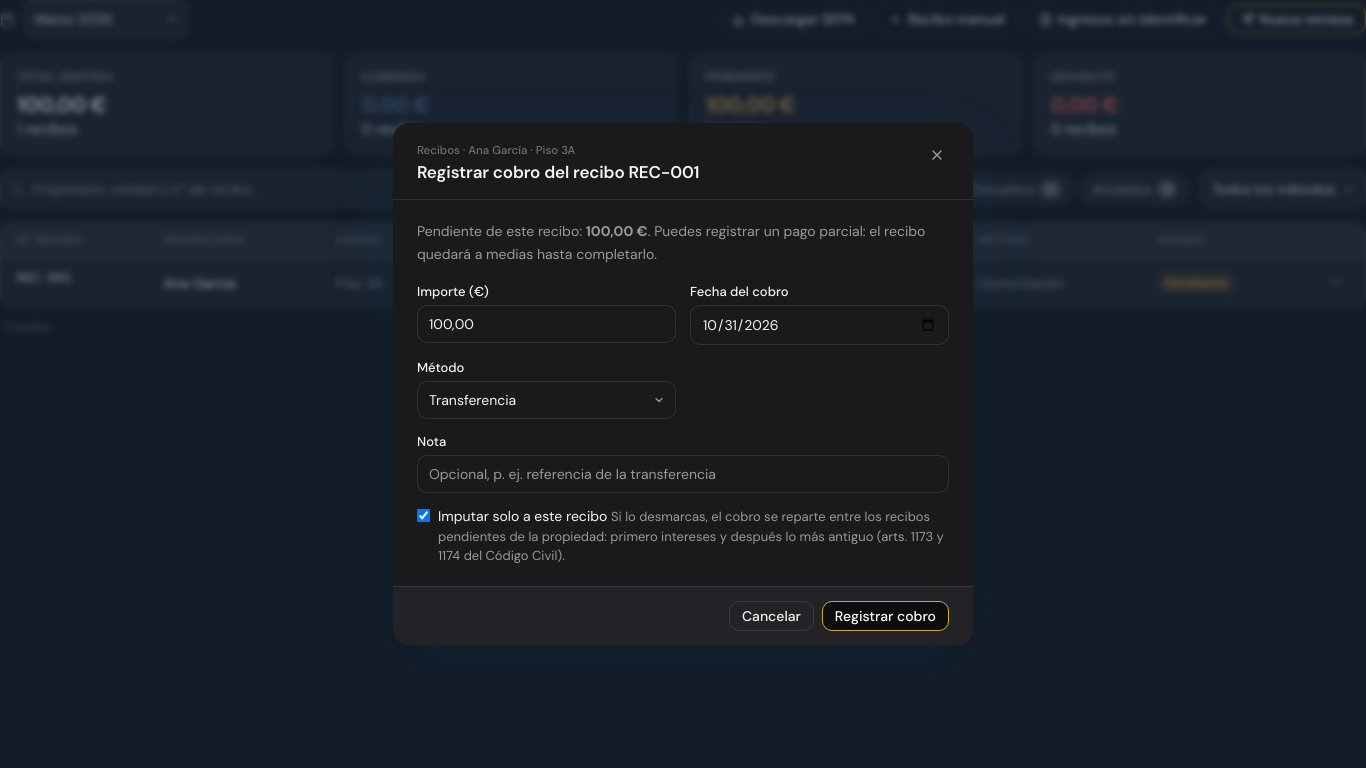
Test: RecibosTabComponent › cobros contabilizados › registrar un cobro parcial manda el importe y el recibo, y recarga la lista
Step 1. Replace the text in the field with id "cobro-amount" with "40,00" → point(546, 324), box [417, 305, 676, 343]
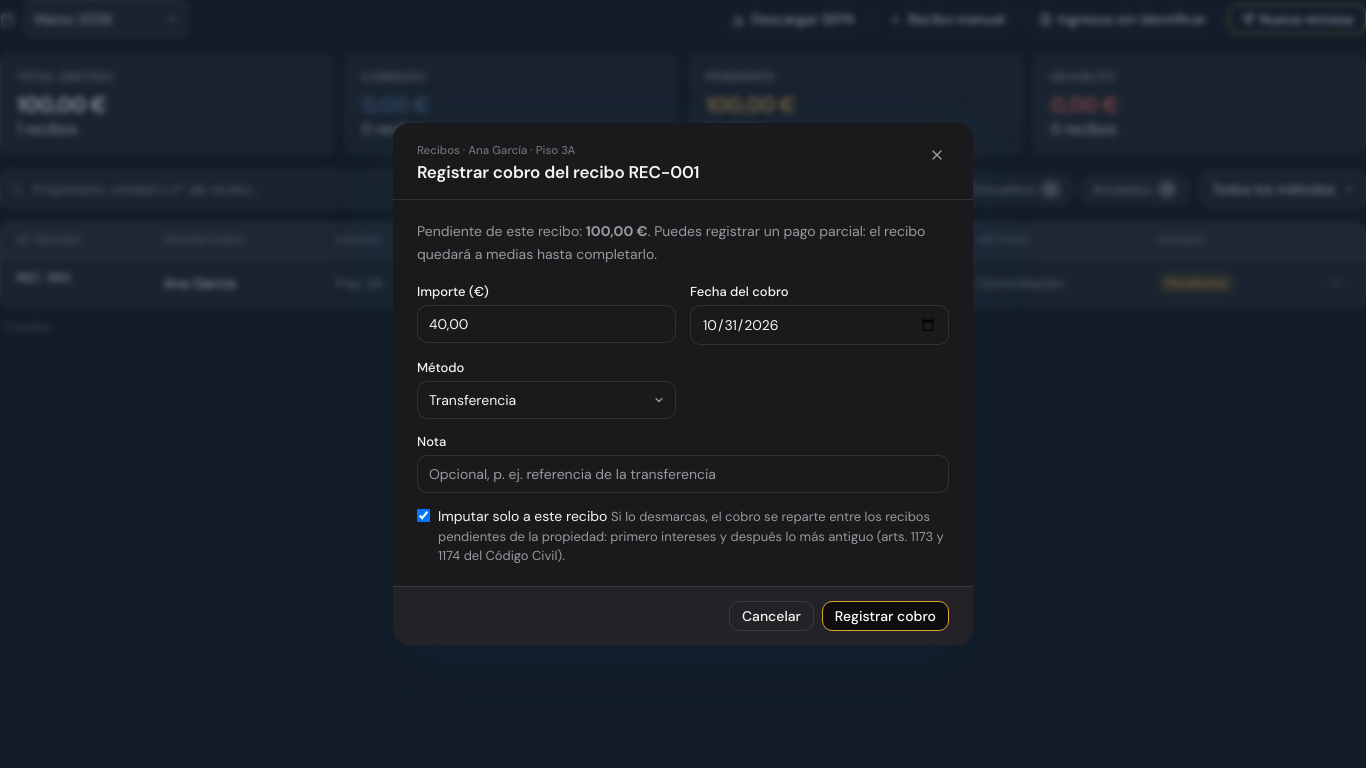
Step 2. Click the button "Registrar cobro" → point(885, 616), box [822, 601, 949, 631]
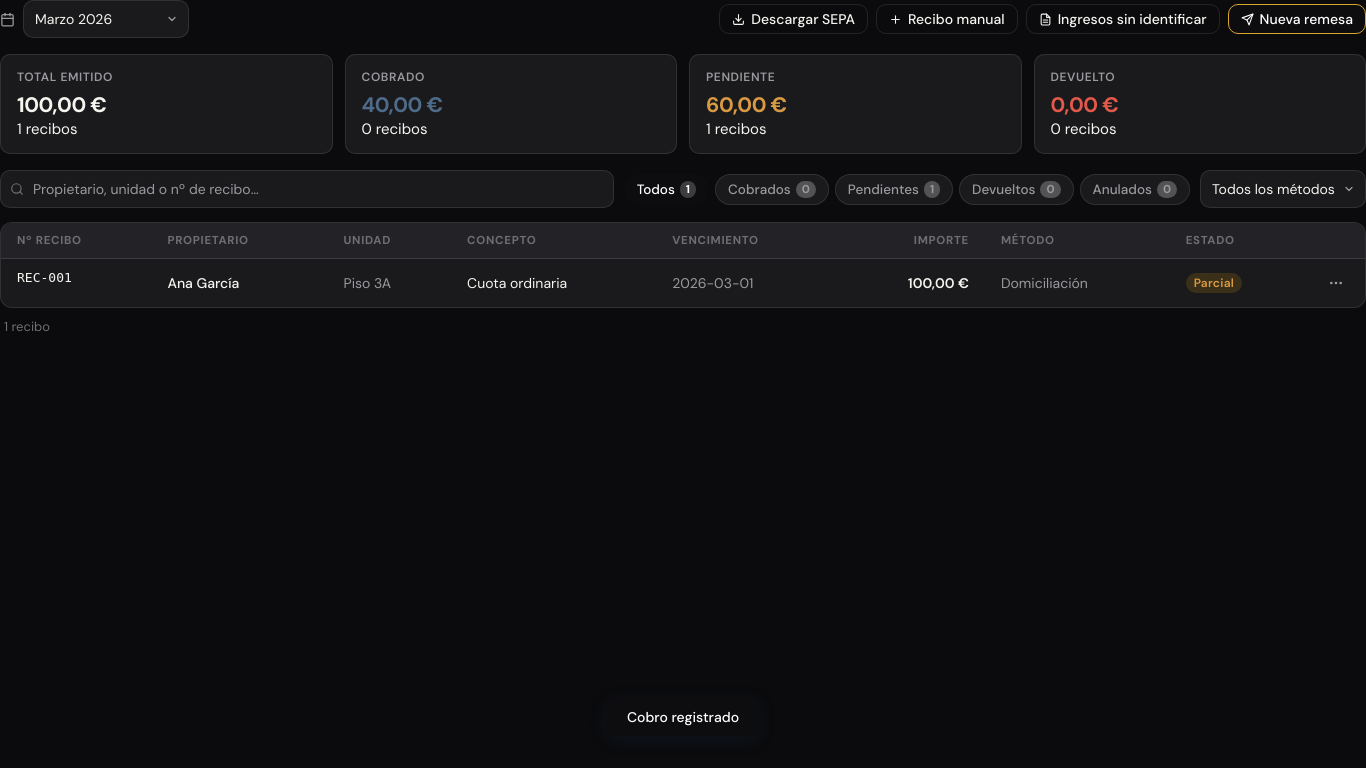
Check: the text "Cobro registrado" is shown, box [607, 698, 759, 736]
